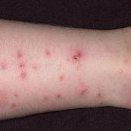Fleas: (16, 50, 26, 78), (71, 52, 81, 63), (77, 88, 87, 95), (45, 49, 50, 57), (10, 102, 16, 108), (43, 96, 48, 101), (56, 94, 61, 99), (96, 92, 101, 97), (12, 93, 18, 97)
